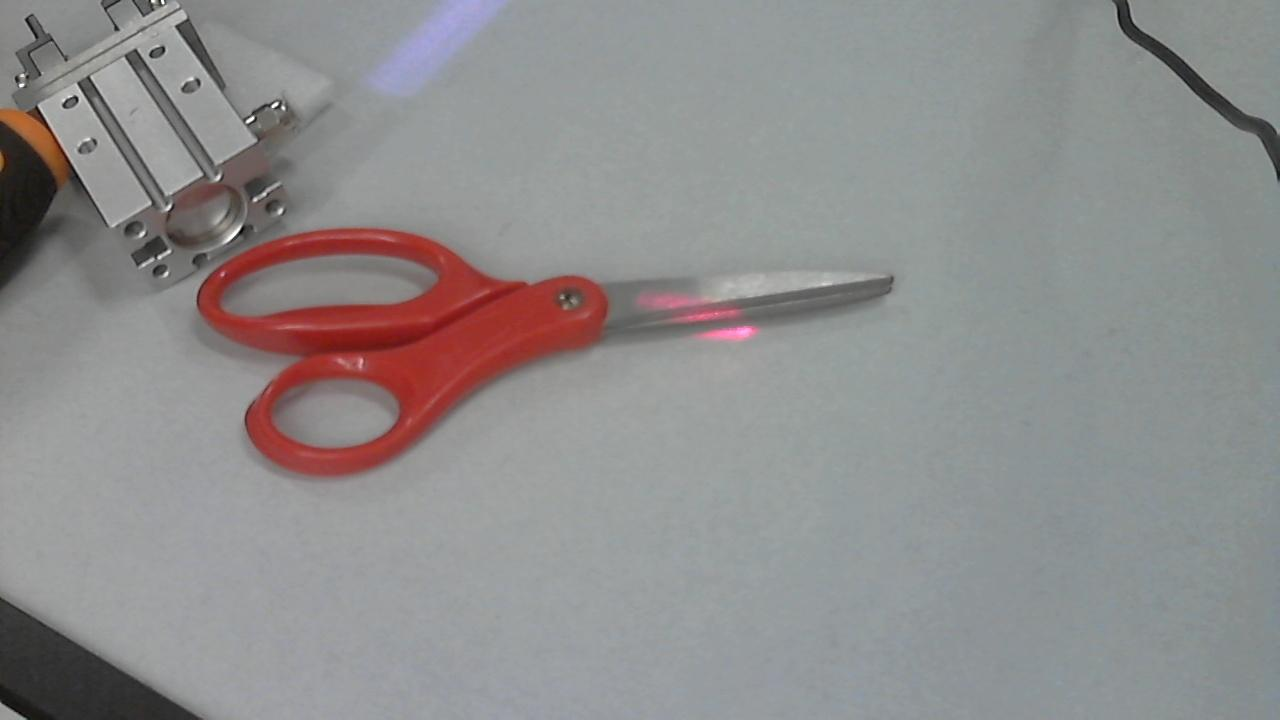Object scissors - Material metal - Pdfname tYexGlkiIXWc: (610, 277, 755, 327)
